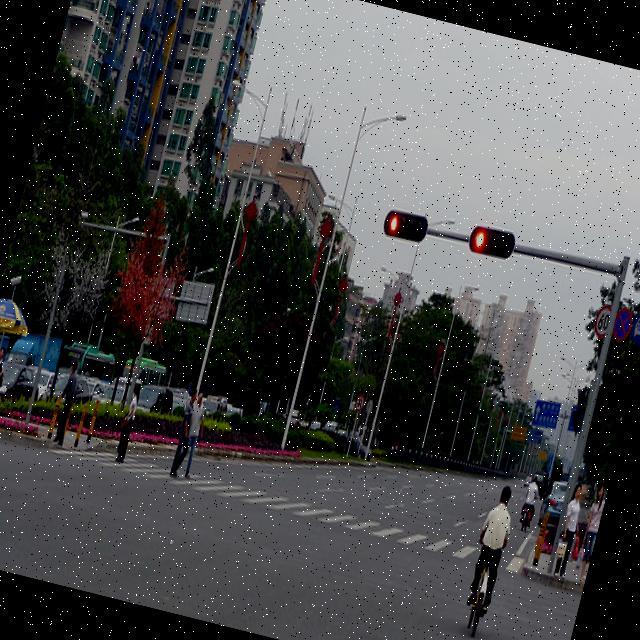fire_hydrant: (530, 512, 550, 564)
